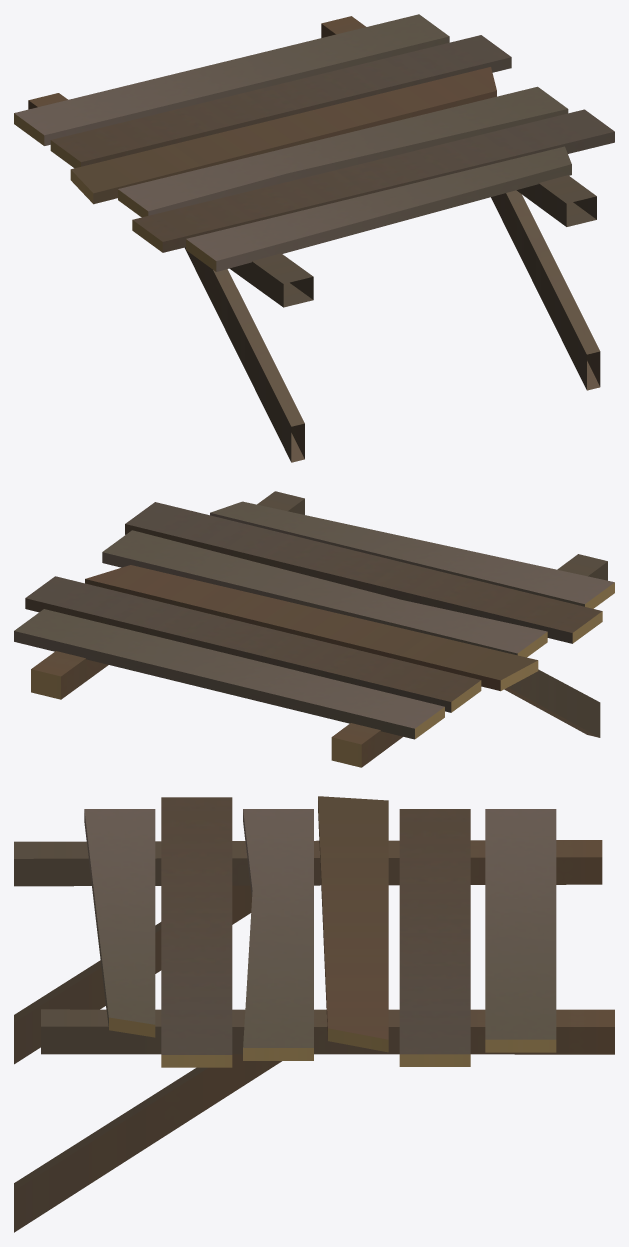
The model's file is Shed_1A_LOD1.fbx.
3 renders of one model, top to bottom at view 1: azimuth 30°, elevation 25°; view 2: azimuth 150°, elevation 25°; view 3: azimuth 270°, elevation 25°, orthographic. The views are drawn at different scales.
Parts seen in each view (by area): view 1: polySurface9834; view 2: polySurface9834; view 3: polySurface9834.
Part boxes in pixels (x1,y1,x2,y2): polySurface9834: (14,14,614,462); polySurface9834: (14,491,614,767); polySurface9834: (14,796,614,1232).
Size of the model in its own units: 240 by 96.1 by 236.
